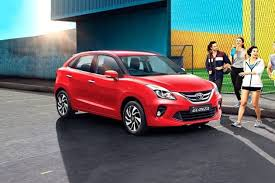Toyota: (58, 52, 219, 124)
